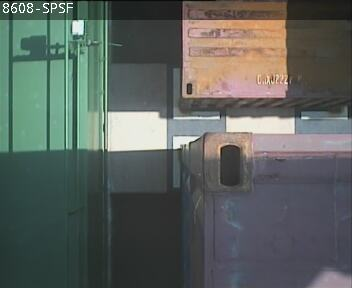groundmarker_1: (172, 67, 222, 188)
